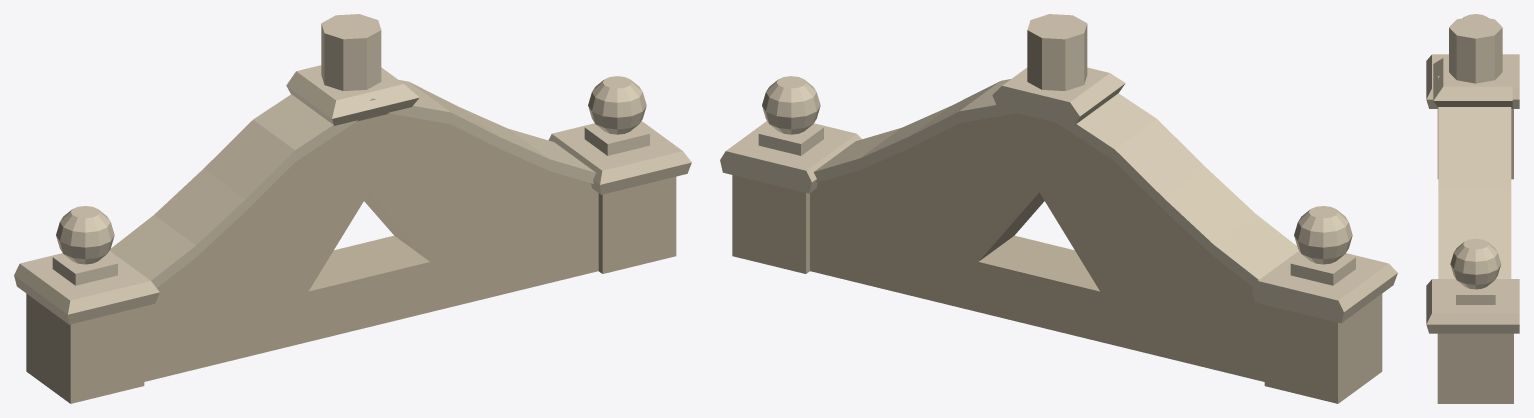
Rendered from T08_Curved_Gable.glb.
3 views of the same model, side by side, from view 1: azimuth 30°, elevation 25°; view 2: azimuth 150°, elevation 25°; view 3: azimuth 270°, elevation 25° (orthographic). The views are drawn at different scales.
Parts seen in each view (by area): view 1: T08_Curved_Gable; view 2: T08_Curved_Gable; view 3: T08_Curved_Gable.
Boxes of the visible parts, left/top/right/bottom form: T08_Curved_Gable: left=14, top=14, right=691, bottom=403; T08_Curved_Gable: left=720, top=14, right=1397, bottom=403; T08_Curved_Gable: left=1426, top=14, right=1519, bottom=403.
Bounding box in the file's own units: 4.41 × 1.94 × 0.66.
